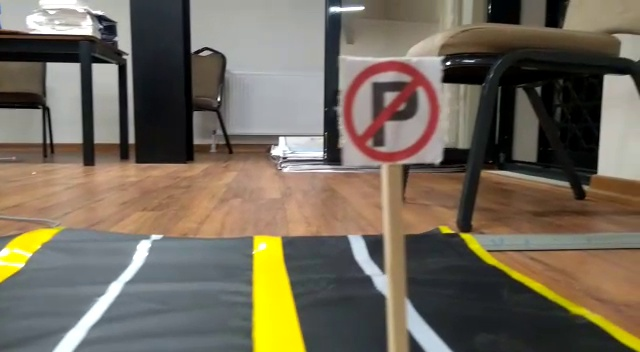park_yapilmaz: (338, 55, 443, 167)
